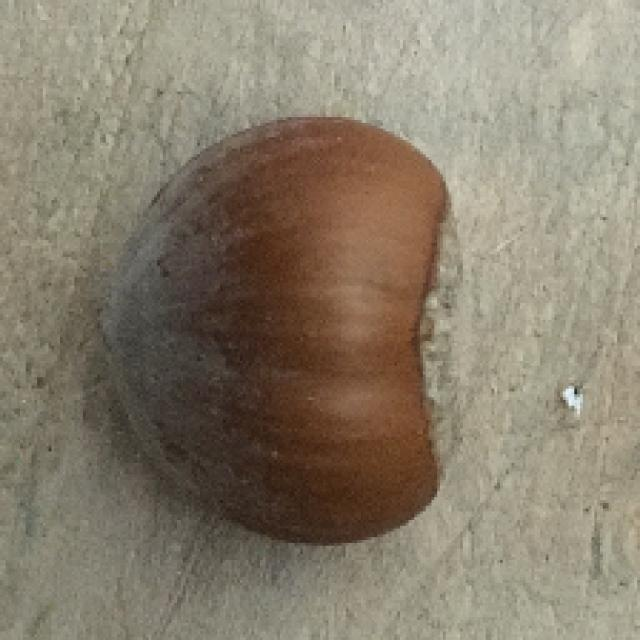QualityHazelnut: (105, 114, 476, 548)
